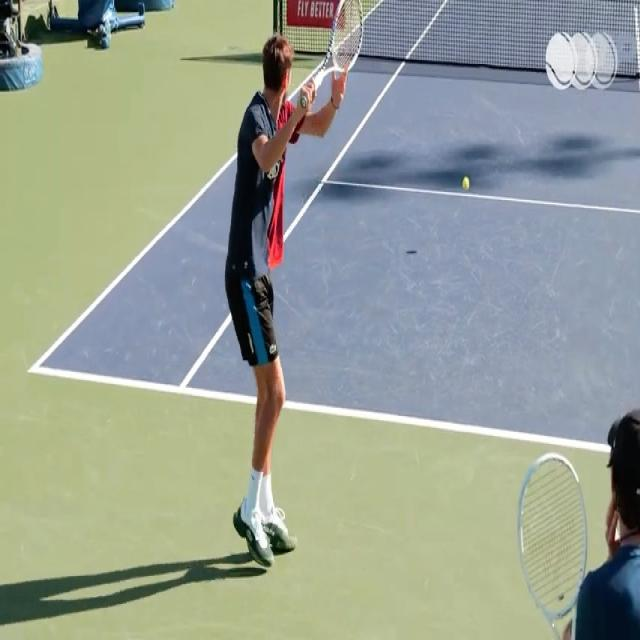forehand-ready: (224, 5, 361, 568)
